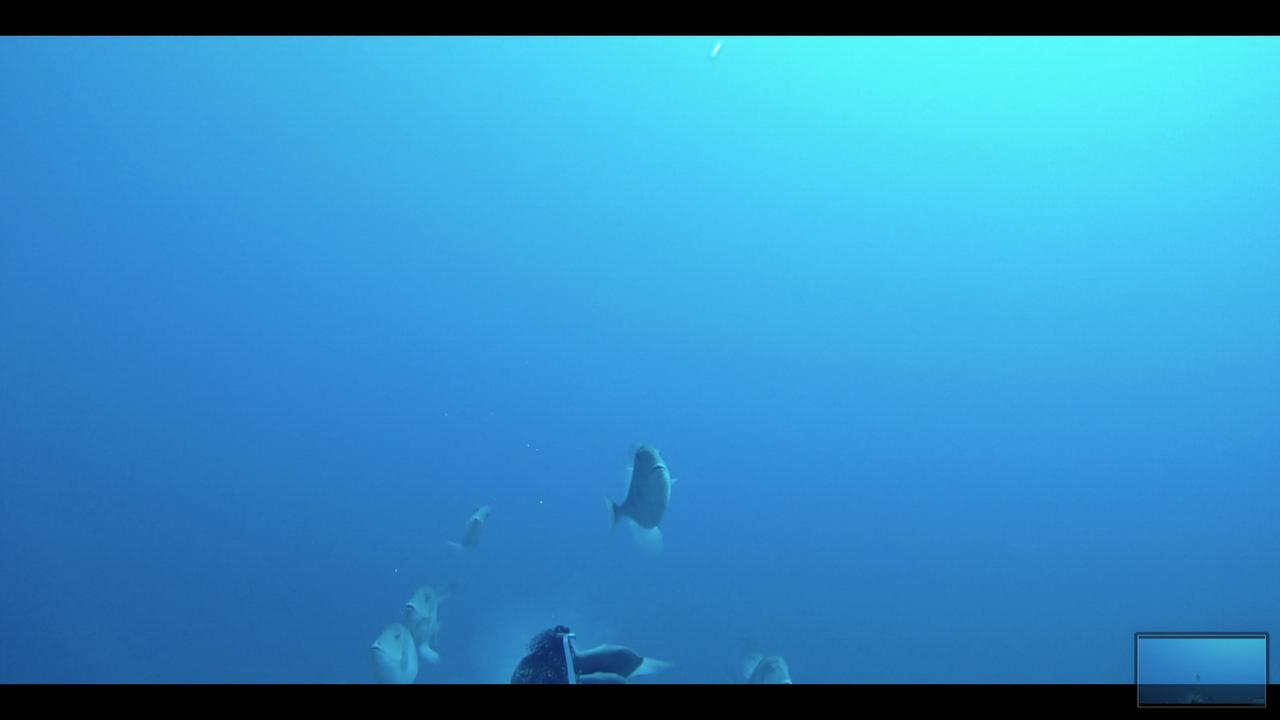balistes: (597, 433, 685, 559), (396, 574, 447, 667), (367, 620, 424, 682), (443, 496, 495, 559)
